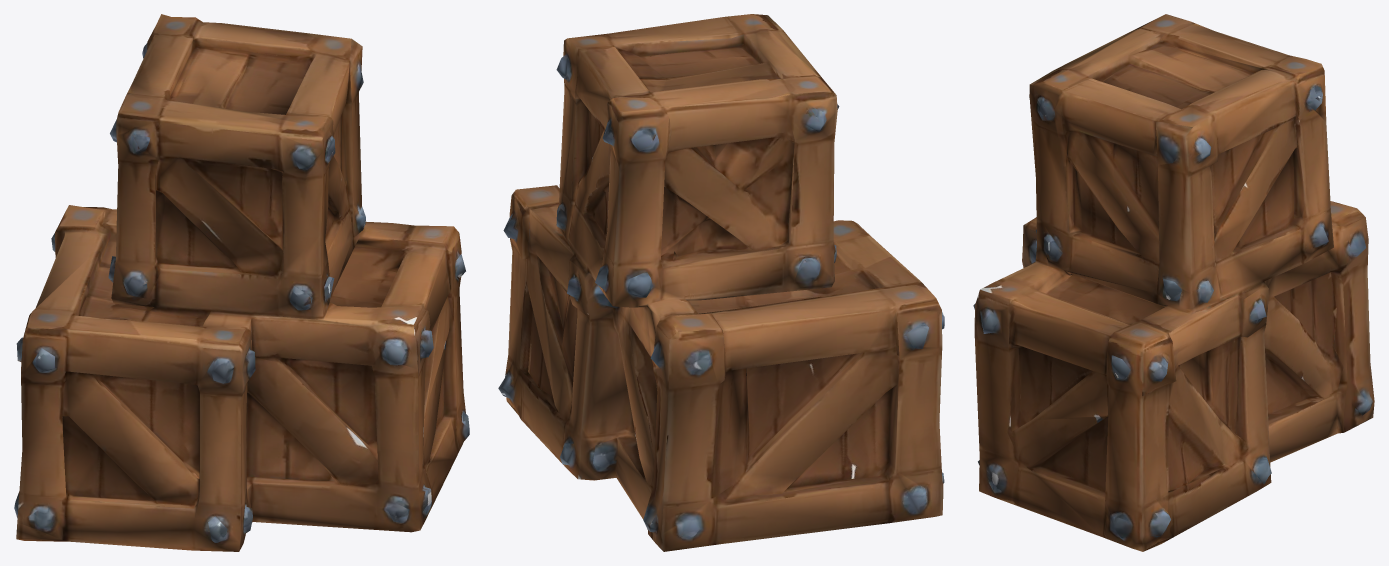
File: dec_crates.glb
3 views of the same model, side by side, from view 1: azimuth 30°, elevation 25°; view 2: azimuth 150°, elevation 25°; view 3: azimuth 270°, elevation 25° (orthographic). The views are drawn at different scales.
Visible parts, largest first — view 1: BakeLow; view 2: BakeLow; view 3: BakeLow.
Boxes of the visible parts, x1=… form: BakeLow: x1=14, y1=14, x2=469, y2=551; BakeLow: x1=498, y1=14, x2=944, y2=551; BakeLow: x1=973, y1=14, x2=1374, y2=551.
Bounding box in the file's own units: 0.8178 × 0.7251 × 0.6686.
1 material, 1 textured.
